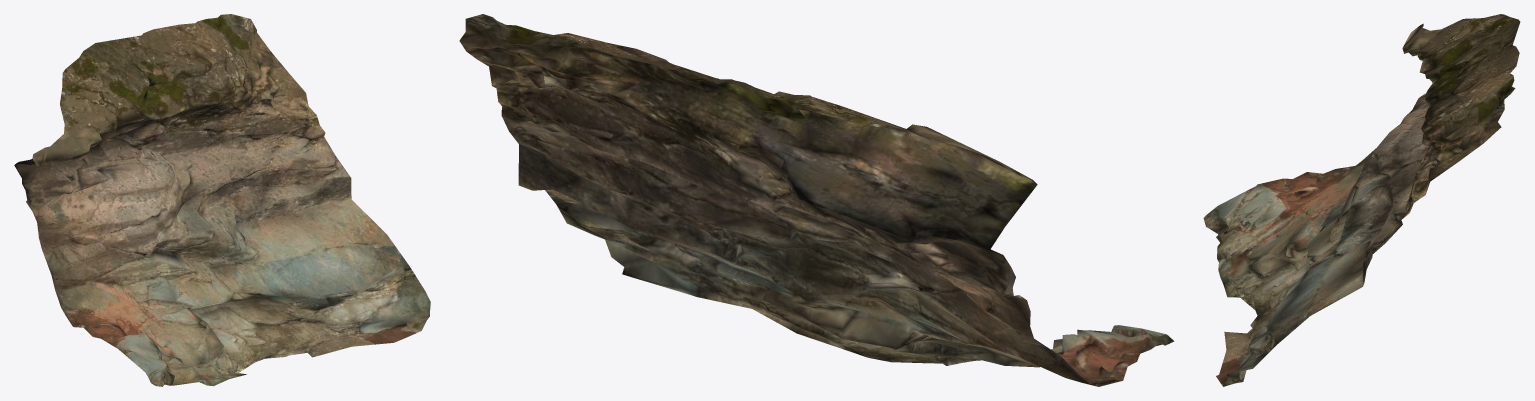
Rendered from rock_face_01.glb.
3 renders of one model, left to right at view 1: azimuth 30°, elevation 25°; view 2: azimuth 150°, elevation 25°; view 3: azimuth 270°, elevation 25°, orthographic. The views are drawn at different scales.
Parts seen in each view (by area): view 1: rock_face_01; view 2: rock_face_01; view 3: rock_face_01.
Boxes of the visible parts, x1=… form: rock_face_01: x1=14, y1=14, x2=430, y2=386; rock_face_01: x1=459, y1=14, x2=1174, y2=386; rock_face_01: x1=1203, y1=14, x2=1520, y2=386.
Size of the model in its own units: 4.95 by 3.56 by 3.82.
Materials: 1 (1 with a texture image).
